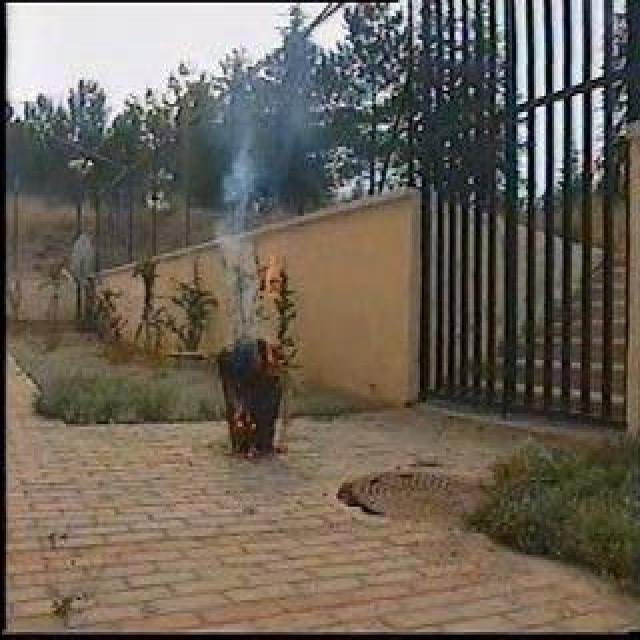fire: (266, 244, 288, 319)
smoke: (221, 145, 259, 304)
